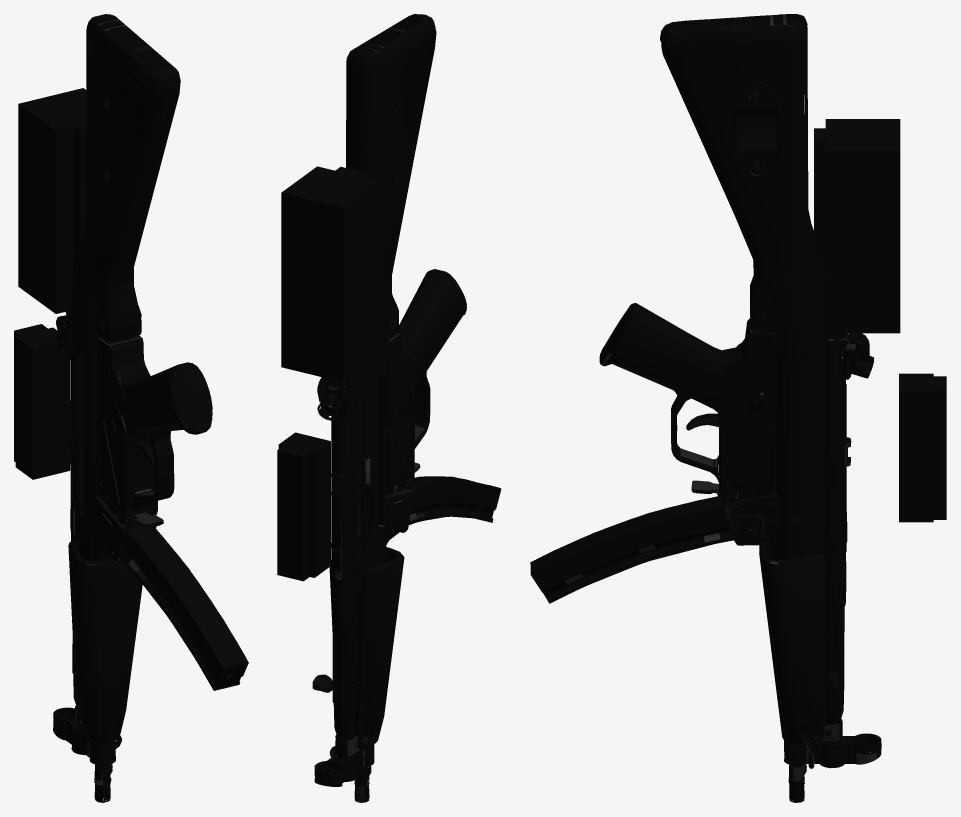
File: MP5A3__Handguard_MP5_Rail__Mount_HK_Claw.fbx
3 renders of one model, left to right at view 1: azimuth 30°, elevation 25°; view 2: azimuth 150°, elevation 25°; view 3: azimuth 270°, elevation 25°, orthographic. The views are drawn at different scales.
Parts seen in each view (by area): view 1: asset_MP5A3.001; view 2: asset_MP5A3.001; view 3: asset_MP5A3.001.
Boxes of the visible parts, x1=… form: asset_MP5A3.001: x1=14, y1=14, x2=248, y2=802; asset_MP5A3.001: x1=277, y1=14, x2=501, y2=802; asset_MP5A3.001: x1=530, y1=14, x2=946, y2=802.
Bounding box in the file's own units: 0.0324 × 0.36 × 0.1734.
